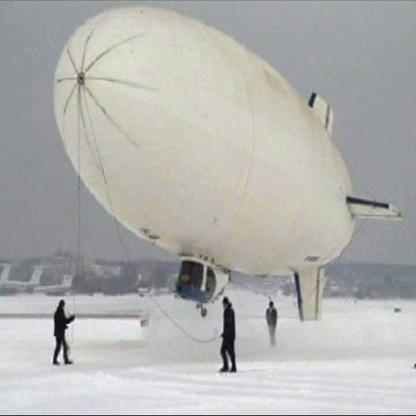Airship: (46, 5, 409, 323)
